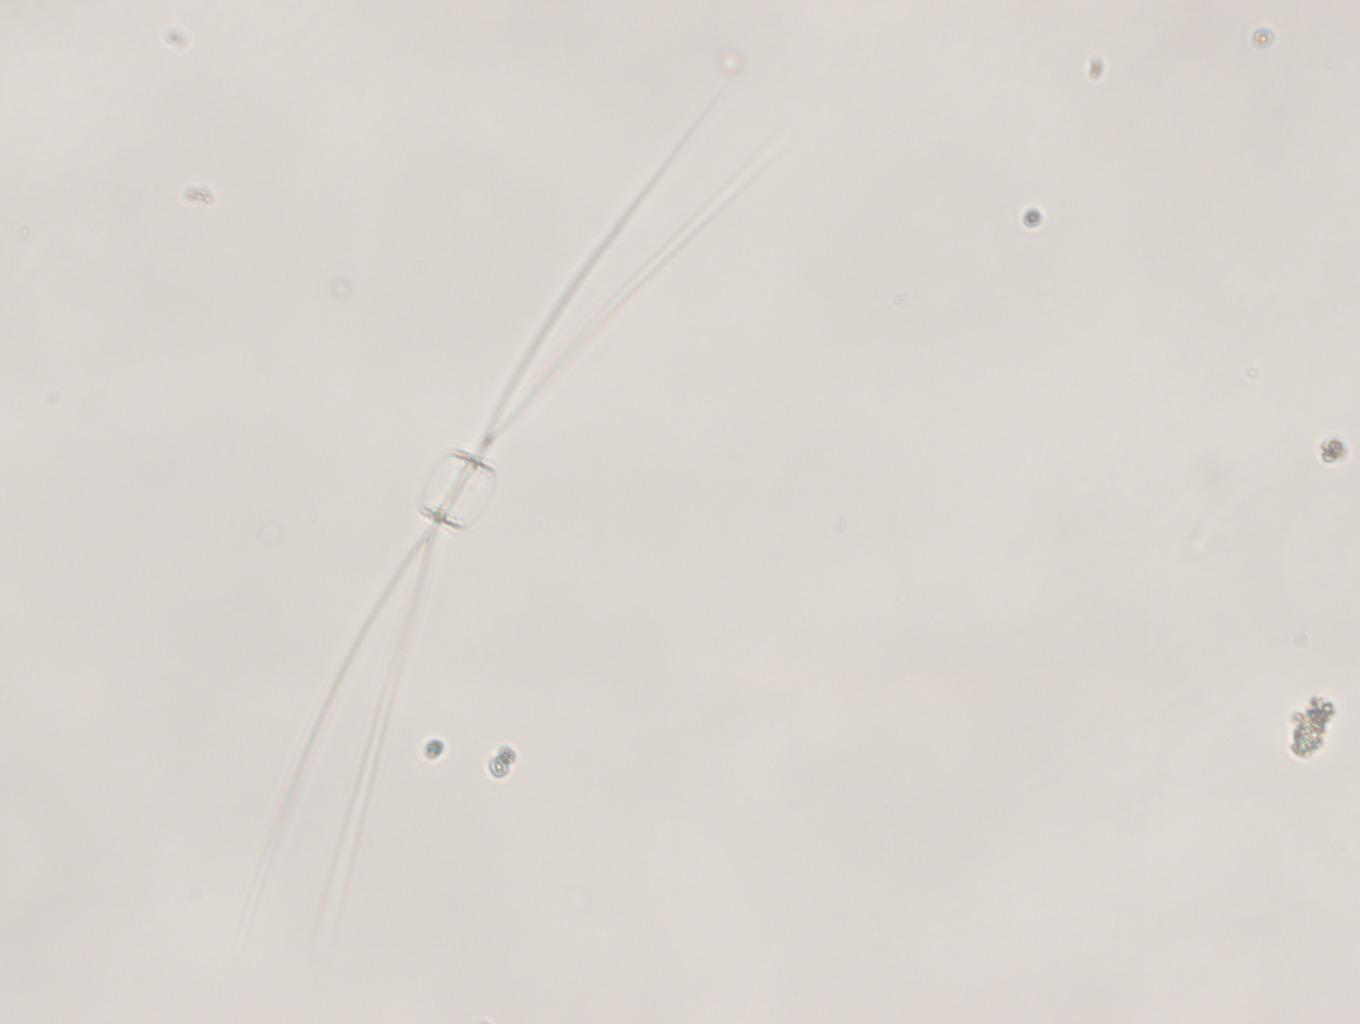chaetoceros: (267, 71, 786, 953)
